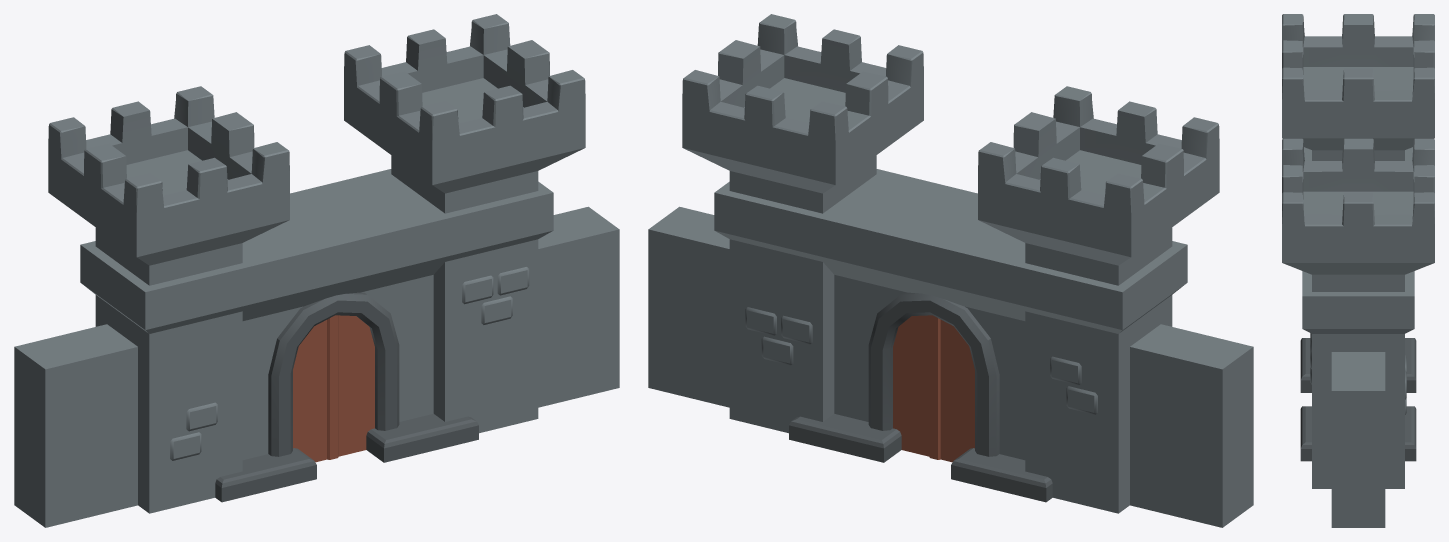
Rendered from kaykit-wall-gate-closed.glb.
3 views of the same model, side by side, from view 1: azimuth 30°, elevation 25°; view 2: azimuth 150°, elevation 25°; view 3: azimuth 270°, elevation 25° (orthographic). The views are drawn at different scales.
Parts seen in each view (by area): view 1: wall_gate_closed; view 2: wall_gate_closed; view 3: wall_gate_closed.
Part boxes in pixels (x1=…): wall_gate_closed: x1=14, y1=14, x2=619, y2=527; wall_gate_closed: x1=648, y1=14, x2=1253, y2=527; wall_gate_closed: x1=1282, y1=14, x2=1434, y2=527.
Bounding box in the file's own units: 2 × 1.15 × 0.5343.
